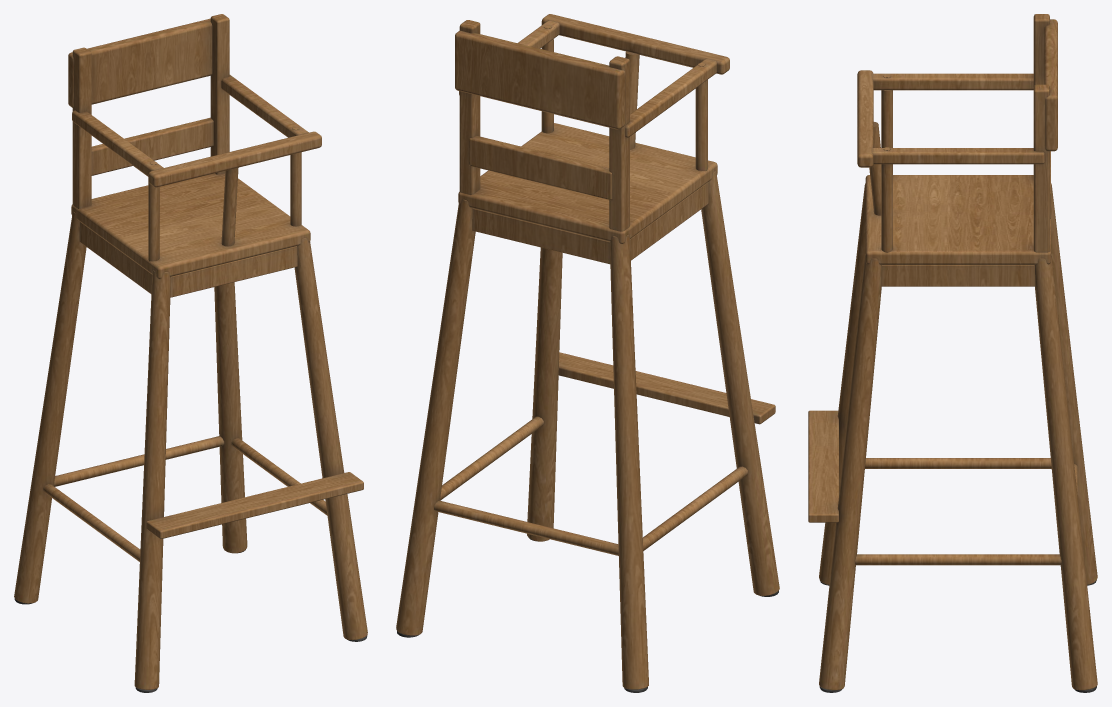
File: StoreHighChair.fbx
3 renders of one model, left to right at view 1: azimuth 30°, elevation 25°; view 2: azimuth 150°, elevation 25°; view 3: azimuth 270°, elevation 25°, orthographic. The views are drawn at different scales.
Parts seen in each view (by area): view 1: StoreHighChair; view 2: StoreHighChair; view 3: StoreHighChair.
Boxes of the visible parts, <box> form: StoreHighChair: <box>14,14,367,692</box>; StoreHighChair: <box>396,14,779,692</box>; StoreHighChair: <box>808,14,1097,692</box>.
Bounding box in the file's own units: 0.4508 × 1.04 × 0.468.
